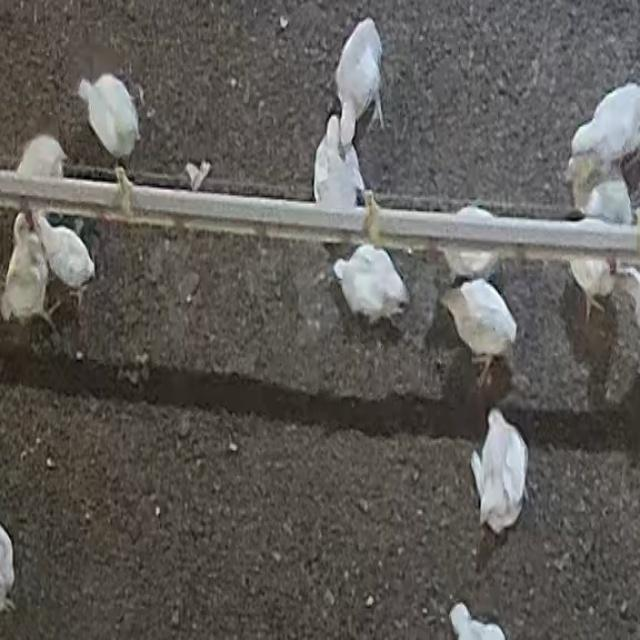chicken: (466, 402, 530, 530), (431, 278, 518, 371), (330, 15, 385, 139), (32, 205, 96, 308), (330, 244, 412, 324), (2, 212, 52, 334), (569, 84, 639, 166), (78, 74, 142, 158), (314, 116, 365, 210), (441, 206, 502, 284), (565, 159, 632, 225), (15, 133, 69, 184)
